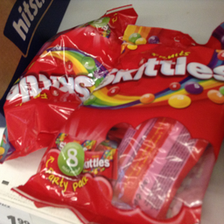candy: (36, 35, 220, 215), (11, 14, 126, 144)
